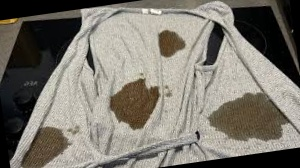coffee: (222, 93, 282, 136), (114, 81, 159, 123), (33, 133, 60, 159), (158, 31, 183, 56)
